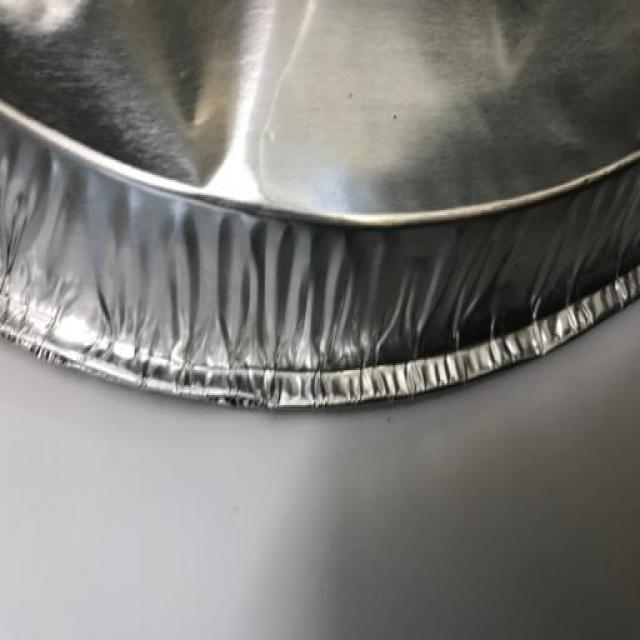metel: (1, 1, 640, 461)
